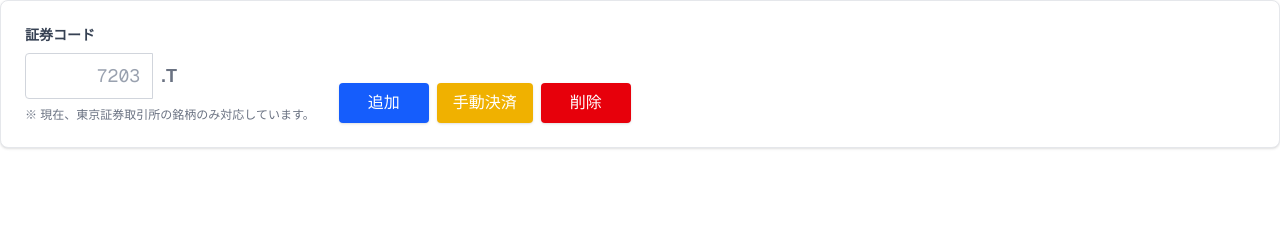
Test: StockInputForm - バリデーション › 空入力で追加ボタンを押すとエラーメッセージが表示されること
Click the button "追加": (384, 103) [339, 83, 429, 123]
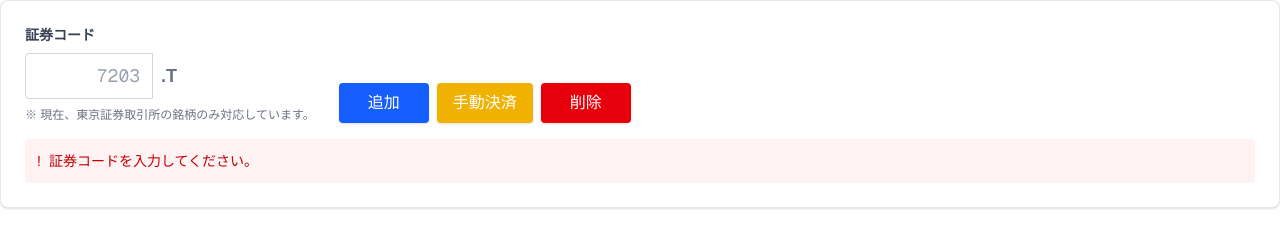
Expected: the text "証券コードを入力してください。" is shown, [49, 153, 258, 169]
